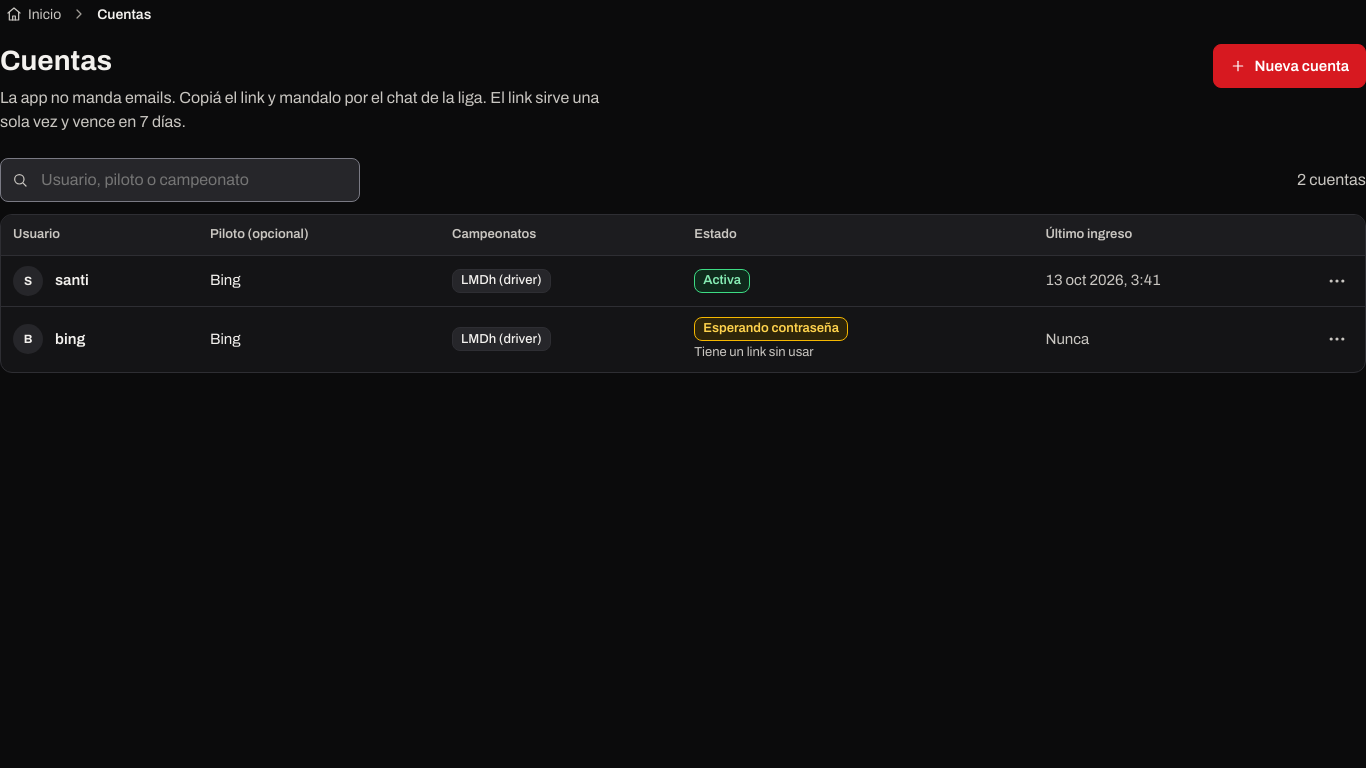
Test: AccountsPage › makes a password link for an active account from the row menu
This screenshot has width=1366, height=768.
Expected: the text "bing" shows "Esperando contraseña", [703,321,839,335]
Click the button named "Acciones de santi" at point(1337, 280), box [1321,258,1353,302]
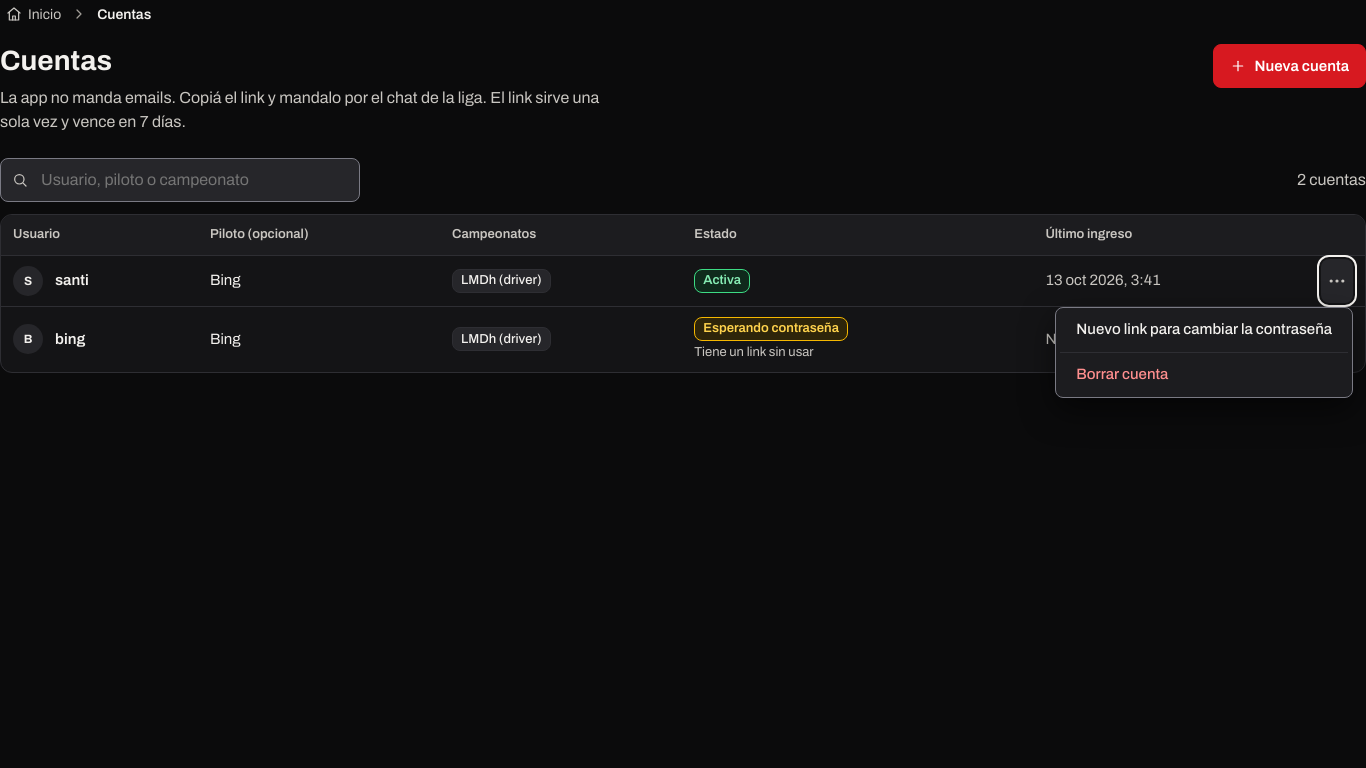
Click the button "Nuevo link para cambiar la contraseña" at point(1204, 330), box [1060,312,1348,348]
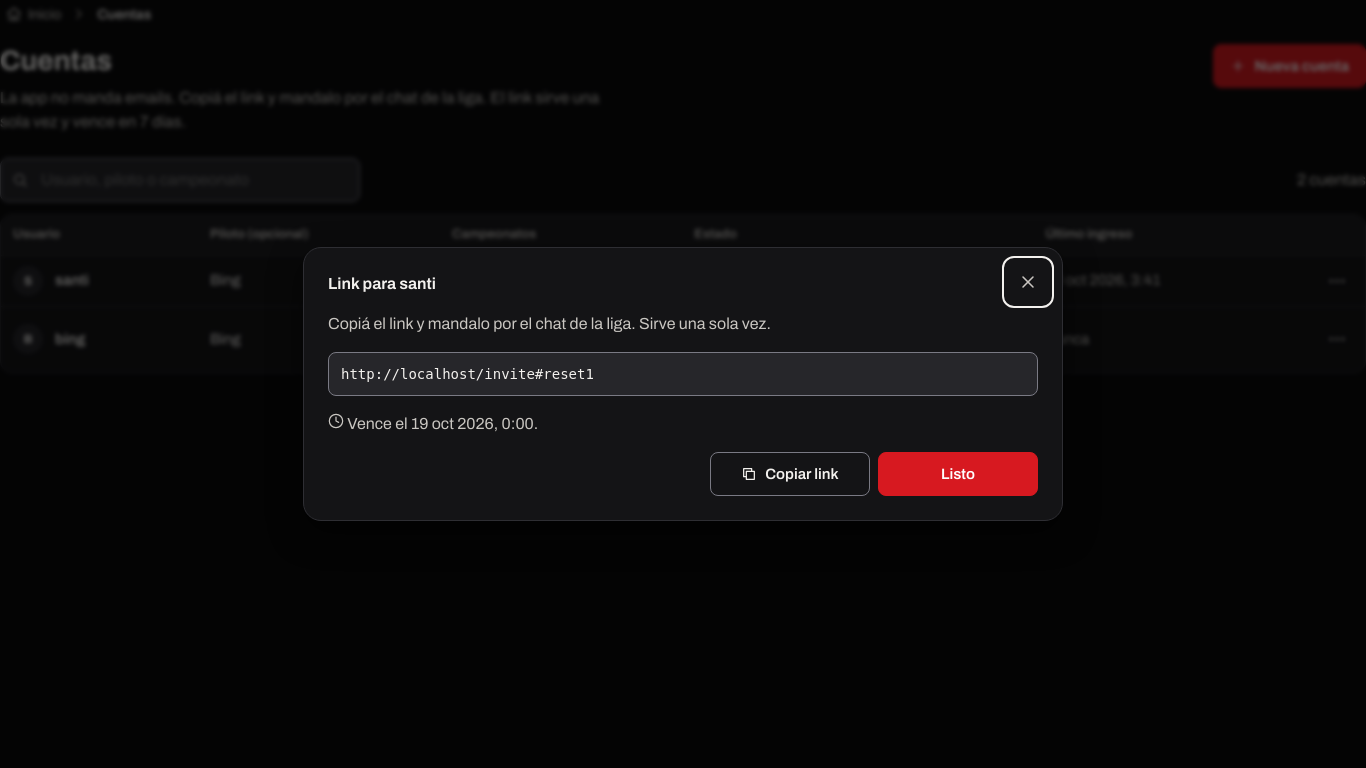
Click the button "Listo" at point(958, 474), box [878,452,1038,496]
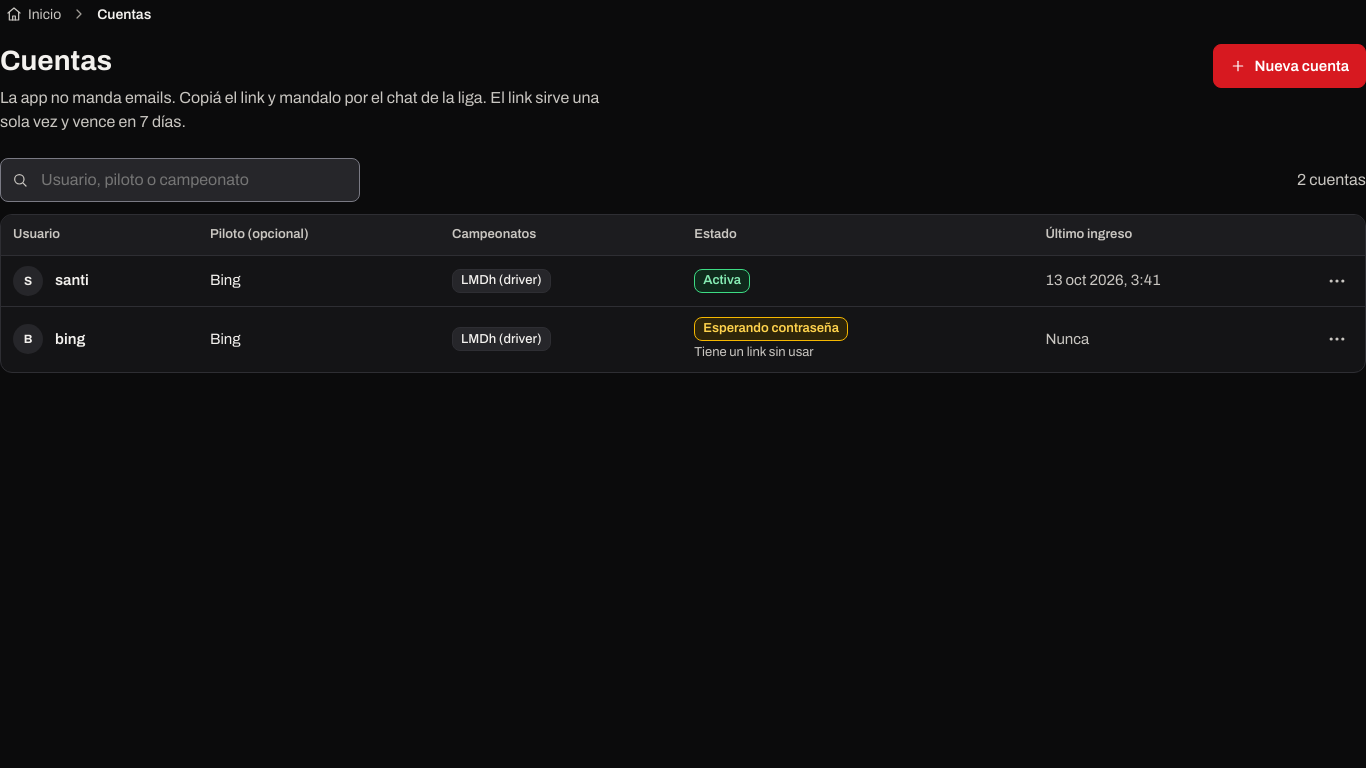
Expected: the heading "Link para santi" is gone
